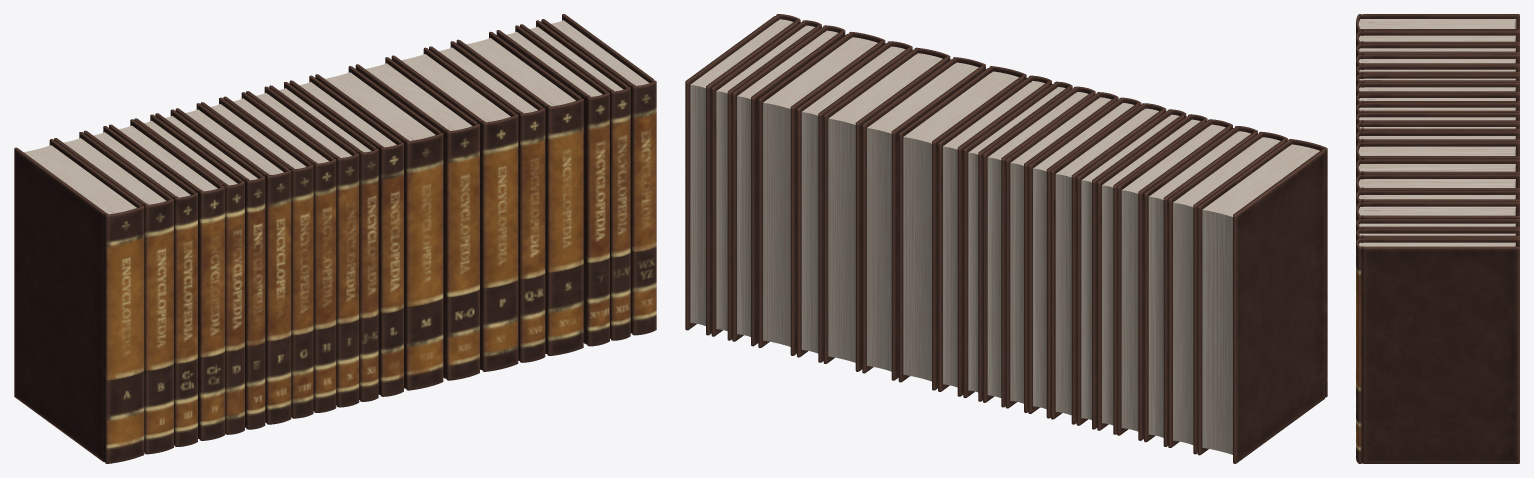
The model's file is book_encyclopedia_set_01_1k.fbx.
The picture shows the model from 3 angles, left to right: view 1: azimuth 30°, elevation 25°; view 2: azimuth 150°, elevation 25°; view 3: azimuth 270°, elevation 25°; orthographic projection. The views are drawn at different scales.
Visible parts, largest first — view 1: book_encyclopedia_set_01_book01, book_encyclopedia_set_01_book13, book_encyclopedia_set_01_book15, book_encyclopedia_set_01_book17, book_encyclopedia_set_01_book14, book_encyclopedia_set_01_book02, book_encyclopedia_set_01_book16, book_encyclopedia_set_01_book04, book_encyclopedia_set_01_book18, book_encyclopedia_set_01_book20, book_encyclopedia_set_01_book07, book_encyclopedia_set_01_book12 (+8 smaller); view 2: book_encyclopedia_set_01_book01, book_encyclopedia_set_01_book13, book_encyclopedia_set_01_book15, book_encyclopedia_set_01_book17, book_encyclopedia_set_01_book14, book_encyclopedia_set_01_book02, book_encyclopedia_set_01_book04, book_encyclopedia_set_01_book16, book_encyclopedia_set_01_book18, book_encyclopedia_set_01_book20, book_encyclopedia_set_01_book07, book_encyclopedia_set_01_book12 (+8 smaller); view 3: book_encyclopedia_set_01_book20, book_encyclopedia_set_01_book13, book_encyclopedia_set_01_book01, book_encyclopedia_set_01_book17, book_encyclopedia_set_01_book15, book_encyclopedia_set_01_book14, book_encyclopedia_set_01_book02, book_encyclopedia_set_01_book16, book_encyclopedia_set_01_book03, book_encyclopedia_set_01_book12, book_encyclopedia_set_01_book07, book_encyclopedia_set_01_book04 (+8 smaller).
Boxes of the visible parts, x1=… form: book_encyclopedia_set_01_book01: x1=14, y1=139, x2=144, y2=463; book_encyclopedia_set_01_book13: x1=315, y1=66, x2=443, y2=390; book_encyclopedia_set_01_book15: x1=391, y1=47, x2=518, y2=371; book_encyclopedia_set_01_book17: x1=456, y1=31, x2=583, y2=355; book_encyclopedia_set_01_book14: x1=355, y1=57, x2=479, y2=380; book_encyclopedia_set_01_book02: x1=54, y1=132, x2=173, y2=454; book_encyclopedia_set_01_book16: x1=429, y1=41, x2=545, y2=362; book_encyclopedia_set_01_book04: x1=109, y1=119, x2=224, y2=440; book_encyclopedia_set_01_book18: x1=496, y1=25, x2=609, y2=346; book_encyclopedia_set_01_book20: x1=541, y1=14, x2=656, y2=335; book_encyclopedia_set_01_book07: x1=175, y1=103, x2=291, y2=424; book_encyclopedia_set_01_book12: x1=289, y1=75, x2=403, y2=396; book_encyclopedia_set_01_book01: x1=1197, y1=139, x2=1327, y2=463; book_encyclopedia_set_01_book13: x1=898, y1=66, x2=1026, y2=390; book_encyclopedia_set_01_book15: x1=823, y1=47, x2=950, y2=371; book_encyclopedia_set_01_book17: x1=758, y1=32, x2=885, y2=355; book_encyclopedia_set_01_book14: x1=862, y1=57, x2=985, y2=380; book_encyclopedia_set_01_book02: x1=1168, y1=131, x2=1287, y2=454; book_encyclopedia_set_01_book04: x1=1117, y1=119, x2=1232, y2=440; book_encyclopedia_set_01_book16: x1=797, y1=41, x2=912, y2=362; book_encyclopedia_set_01_book18: x1=732, y1=25, x2=845, y2=346; book_encyclopedia_set_01_book20: x1=685, y1=14, x2=800, y2=335; book_encyclopedia_set_01_book07: x1=1051, y1=103, x2=1166, y2=424; book_encyclopedia_set_01_book12: x1=938, y1=75, x2=1051, y2=396; book_encyclopedia_set_01_book20: x1=1356, y1=238, x2=1519, y2=463; book_encyclopedia_set_01_book13: x1=1356, y1=142, x2=1519, y2=164; book_encyclopedia_set_01_book01: x1=1356, y1=14, x2=1519, y2=35; book_encyclopedia_set_01_book17: x1=1356, y1=202, x2=1519, y2=222; book_encyclopedia_set_01_book15: x1=1356, y1=174, x2=1519, y2=194; book_encyclopedia_set_01_book14: x1=1356, y1=159, x2=1519, y2=180; book_encyclopedia_set_01_book02: x1=1356, y1=30, x2=1519, y2=47; book_encyclopedia_set_01_book16: x1=1356, y1=190, x2=1519, y2=208; book_encyclopedia_set_01_book03: x1=1356, y1=43, x2=1519, y2=58; book_encyclopedia_set_01_book12: x1=1356, y1=131, x2=1519, y2=148; book_encyclopedia_set_01_book07: x1=1356, y1=82, x2=1519, y2=96; book_encyclopedia_set_01_book04: x1=1356, y1=54, x2=1519, y2=68.
Bounding box in the file's own units: 55.13 × 23.74 × 16.31.
Materials: 2 (2 with a texture image).
